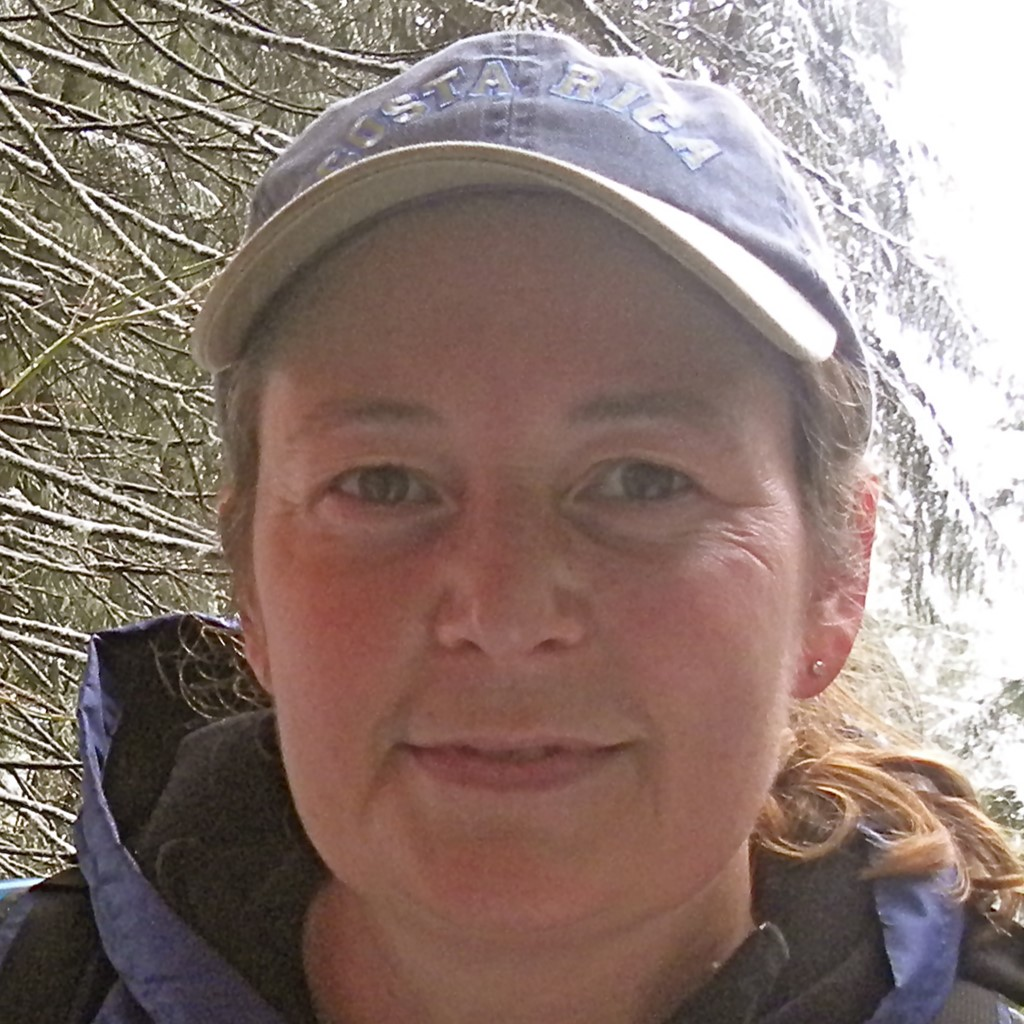sin_mascara: (230, 157, 811, 926)
